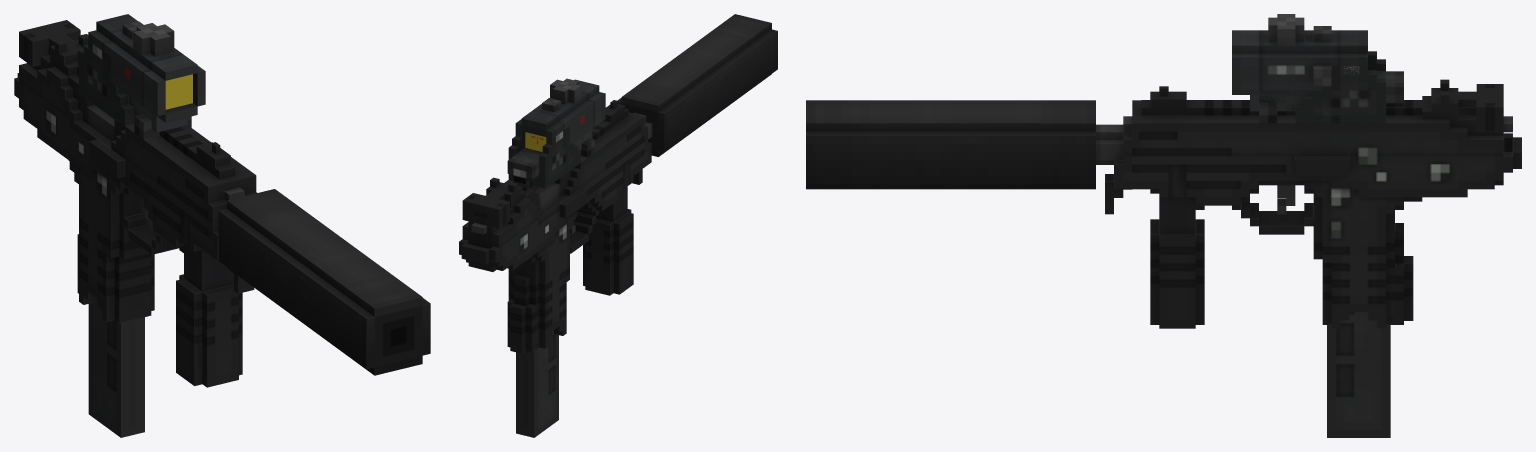
The picture shows the model from 3 angles, left to right: view 1: azimuth 30°, elevation 25°; view 2: azimuth 150°, elevation 25°; view 3: azimuth 270°, elevation 25°; orthographic projection. The views are drawn at different scales.
Visible parts, largest first — view 1: TMP, SILENCER_8X8, SCOPE_TASCO, TMP_CLIP, SCOPE_EOTECH, TMP_BOLT; view 2: TMP, SILENCER_8X8, SCOPE_TASCO, TMP_CLIP, SCOPE_EOTECH, TMP_BOLT, SCOPE_AIMPOINT; view 3: TMP, SILENCER_8X8, SCOPE_TASCO, TMP_CLIP, SCOPE_EOTECH, TMP_BOLT, SCOPE_AIMPOINT.
Boxes of the visible parts, box(x1,y1,x2,y2) form: TMP: box(14, 24, 256, 387); SILENCER_8X8: box(218, 189, 430, 375); SCOPE_TASCO: box(88, 14, 205, 139); TMP_CLIP: box(88, 298, 144, 437); SCOPE_EOTECH: box(79, 41, 188, 132); TMP_BOLT: box(19, 20, 80, 66); TMP: box(459, 100, 652, 353); SILENCER_8X8: box(617, 14, 777, 156); SCOPE_TASCO: box(515, 78, 605, 157); TMP_CLIP: box(516, 331, 558, 437); SCOPE_EOTECH: box(508, 125, 592, 188); TMP_BOLT: box(462, 193, 509, 228); SCOPE_AIMPOINT: box(507, 126, 569, 184); TMP: box(1096, 79, 1521, 328); SILENCER_8X8: box(806, 100, 1095, 189); SCOPE_TASCO: box(1232, 14, 1367, 123); TMP_CLIP: box(1327, 312, 1390, 437); SCOPE_EOTECH: box(1250, 51, 1385, 123); TMP_BOLT: box(1458, 84, 1503, 131); SCOPE_AIMPOINT: box(1322, 66, 1403, 107).
Bounding box in the file's own units: 0.0787 × 0.492 × 0.7774.
8 materials, 8 textured.
